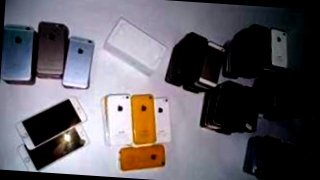iphone: (231, 102, 302, 159), (289, 35, 320, 91), (228, 41, 259, 94), (160, 95, 188, 146), (150, 145, 196, 173), (97, 39, 122, 84)
